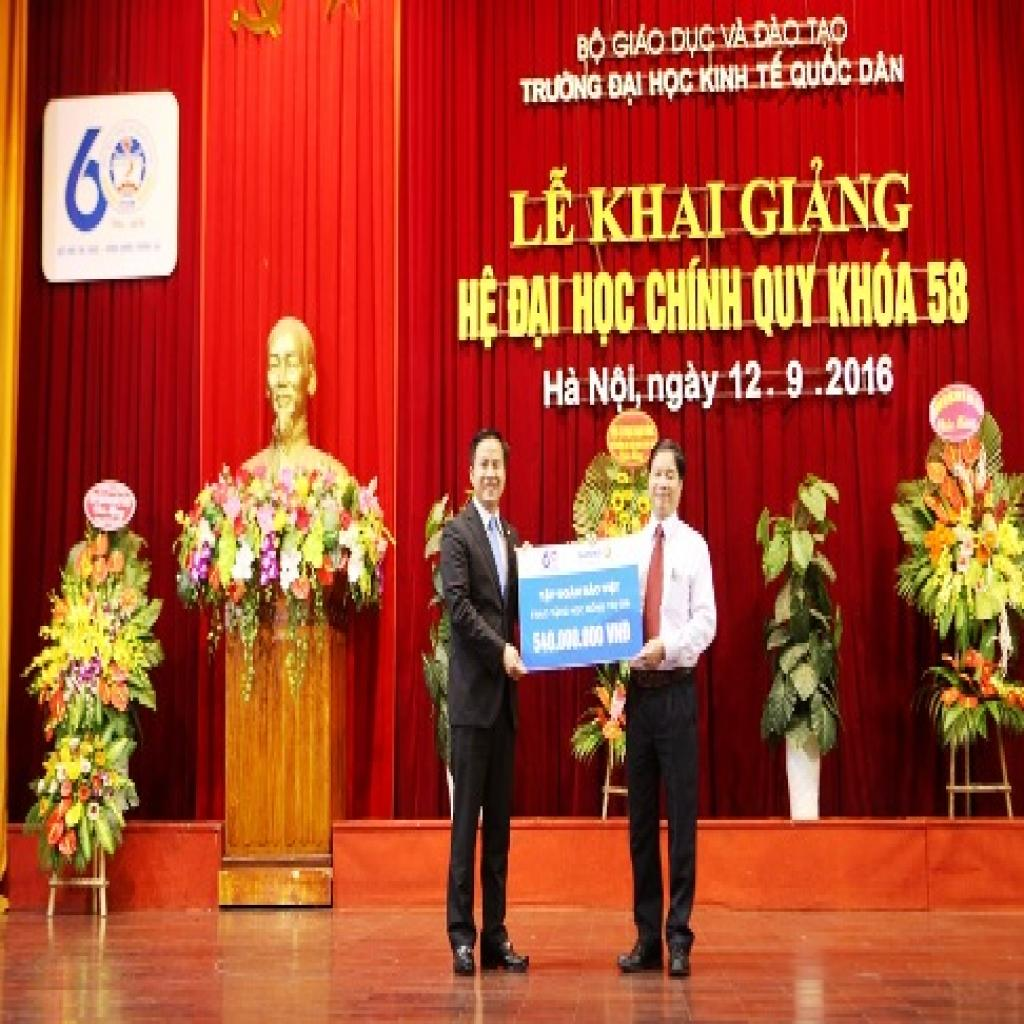text: (738, 150, 912, 242), (586, 177, 729, 248), (645, 255, 746, 340), (828, 245, 921, 330), (504, 160, 577, 252), (63, 126, 114, 238), (573, 269, 639, 354), (752, 262, 820, 344), (506, 272, 562, 357), (644, 360, 722, 418), (814, 350, 896, 402), (453, 262, 499, 354), (518, 72, 605, 112), (925, 259, 971, 330), (588, 364, 645, 418), (788, 48, 853, 95), (529, 623, 607, 660), (609, 20, 666, 62), (540, 364, 584, 412), (698, 61, 752, 99), (855, 51, 906, 88), (670, 24, 716, 64), (573, 20, 607, 72), (725, 360, 765, 404), (754, 14, 801, 51), (805, 14, 851, 51), (607, 68, 645, 112), (754, 51, 786, 92), (716, 17, 750, 54), (784, 360, 805, 404), (607, 620, 632, 646), (763, 384, 777, 402)
